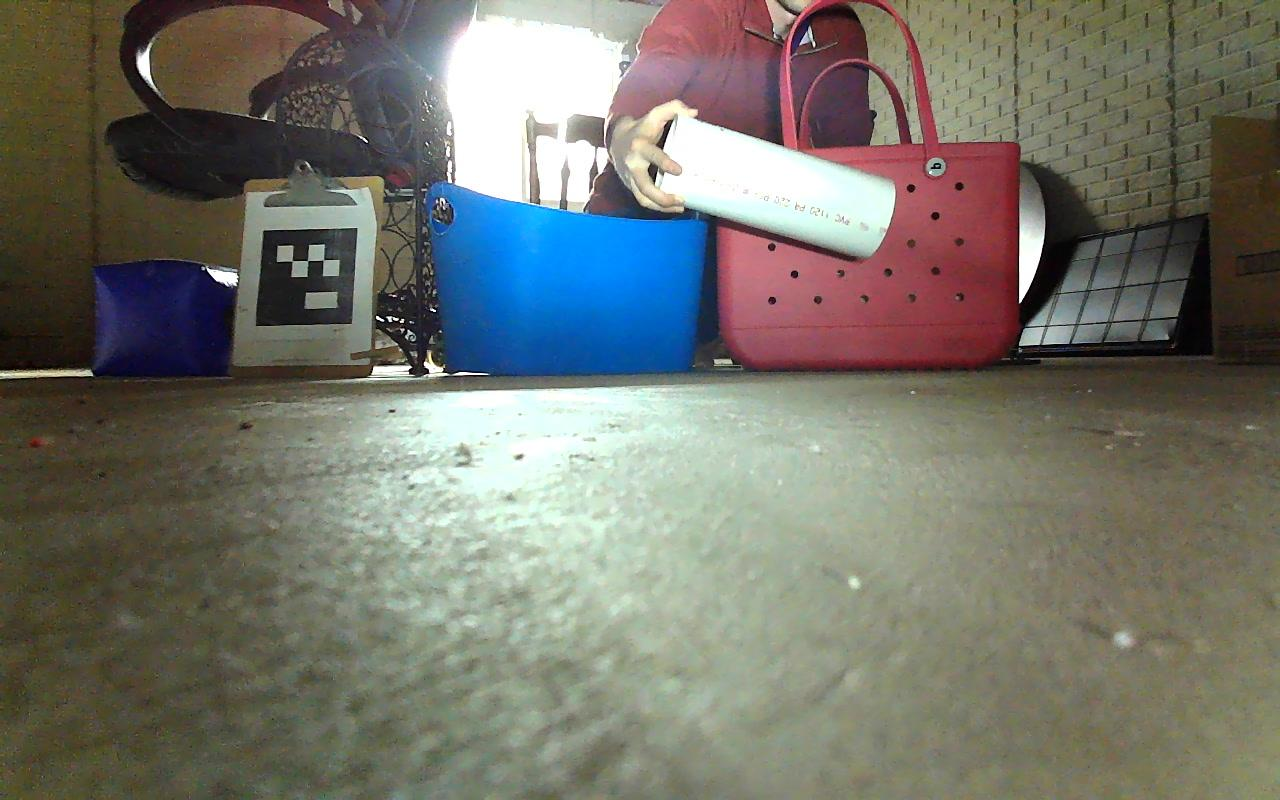coral: (646, 111, 895, 262)
